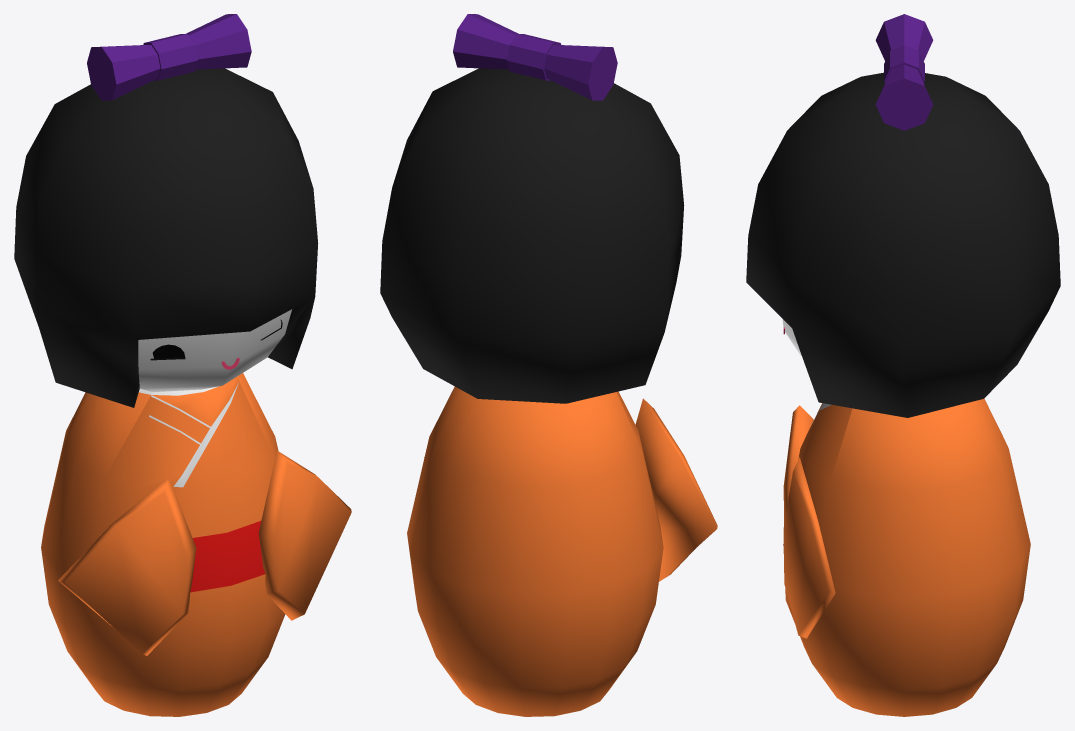
The model's file is jap-doll.fbx.
3 views of the same model, side by side, from view 1: azimuth 30°, elevation 25°; view 2: azimuth 150°, elevation 25°; view 3: azimuth 270°, elevation 25° (orthographic). The views are drawn at different scales.
Visible parts, largest first — view 1: hair_Cylinder.004, body_Cylinder.002, hands_Cube.002, bow_Cylinder.003; view 2: hair_Cylinder.004, body_Cylinder.002, bow_Cylinder.003, hands_Cube.002; view 3: hair_Cylinder.004, body_Cylinder.002, hands_Cube.002, bow_Cylinder.003.
Part boxes in pixels (<box>): hair_Cylinder.004: <box>14,68,318,407</box>; body_Cylinder.002: <box>41,309,291,716</box>; hands_Cube.002: <box>58,450,351,655</box>; bow_Cylinder.003: <box>87,14,251,100</box>; hair_Cylinder.004: <box>380,68,684,403</box>; body_Cylinder.002: <box>407,386,663,716</box>; bow_Cylinder.003: <box>453,14,617,100</box>; hands_Cube.002: <box>424,398,717,581</box>; hair_Cylinder.004: <box>746,72,1060,417</box>; body_Cylinder.002: <box>782,319,1030,716</box>; hands_Cube.002: <box>783,405,835,638</box>; bow_Cylinder.003: <box>875,14,933,130</box>.
Bounding box in the file's own units: 256 × 547 × 244.
